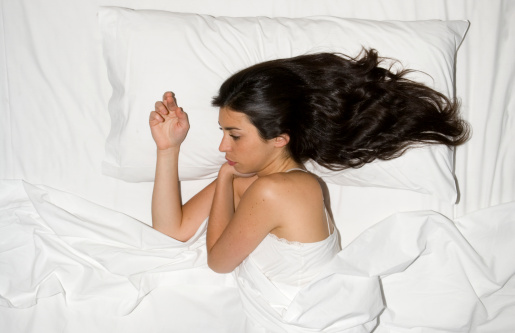deitado: (98, 60, 465, 333)
